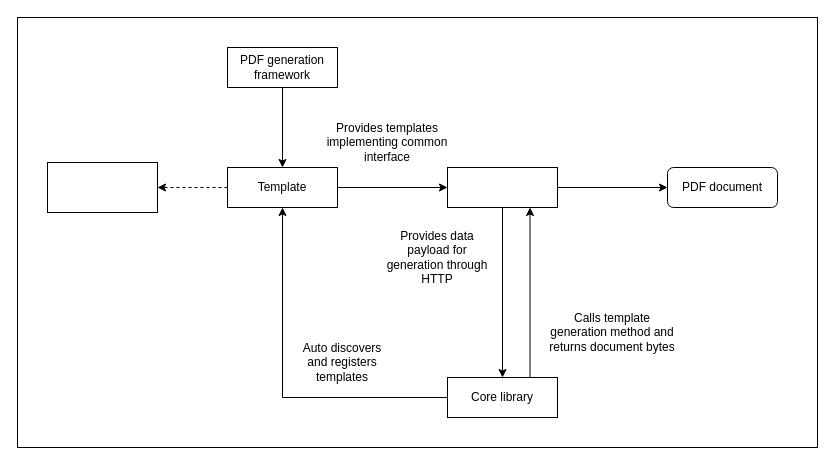
The diagram is 835 pixels wide and 465 high, and some of its shapes have lost their labels. The centre of each missing label's shape, as x and y in pixels:
Client: (502,187)
«interface» PdfTemplate: (102,187)
